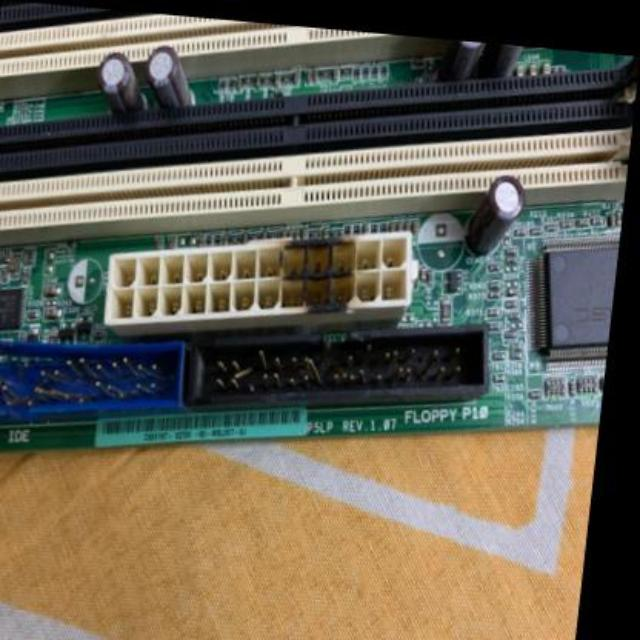PCB: (2, 0, 630, 456)
